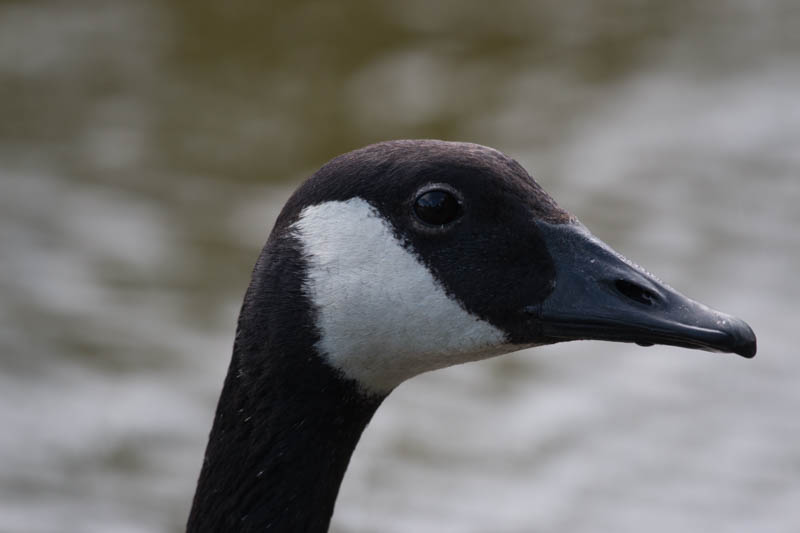goose-head: (234, 139, 757, 400)
